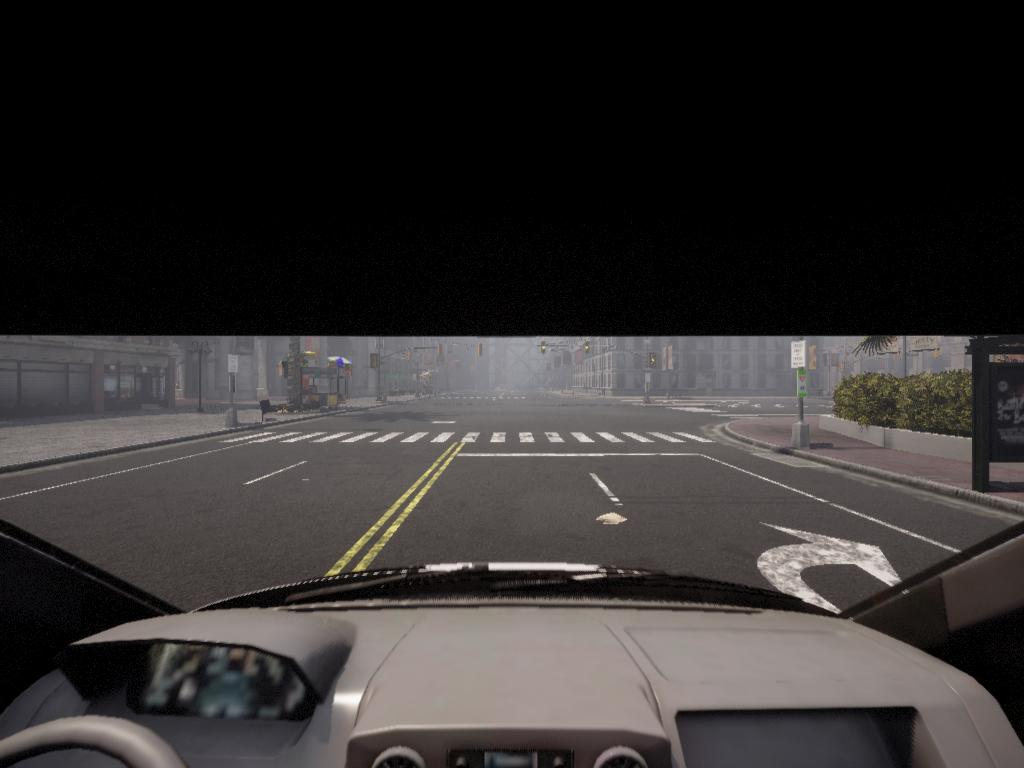traffic_light: (650, 353, 657, 369), (585, 342, 591, 355), (478, 344, 483, 358), (438, 344, 443, 358), (542, 342, 547, 355), (408, 351, 412, 362)
